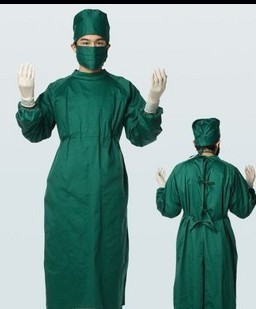face_mask: (76, 28, 105, 67)
